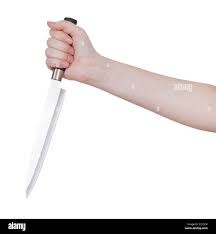knife: (19, 16, 77, 198)
